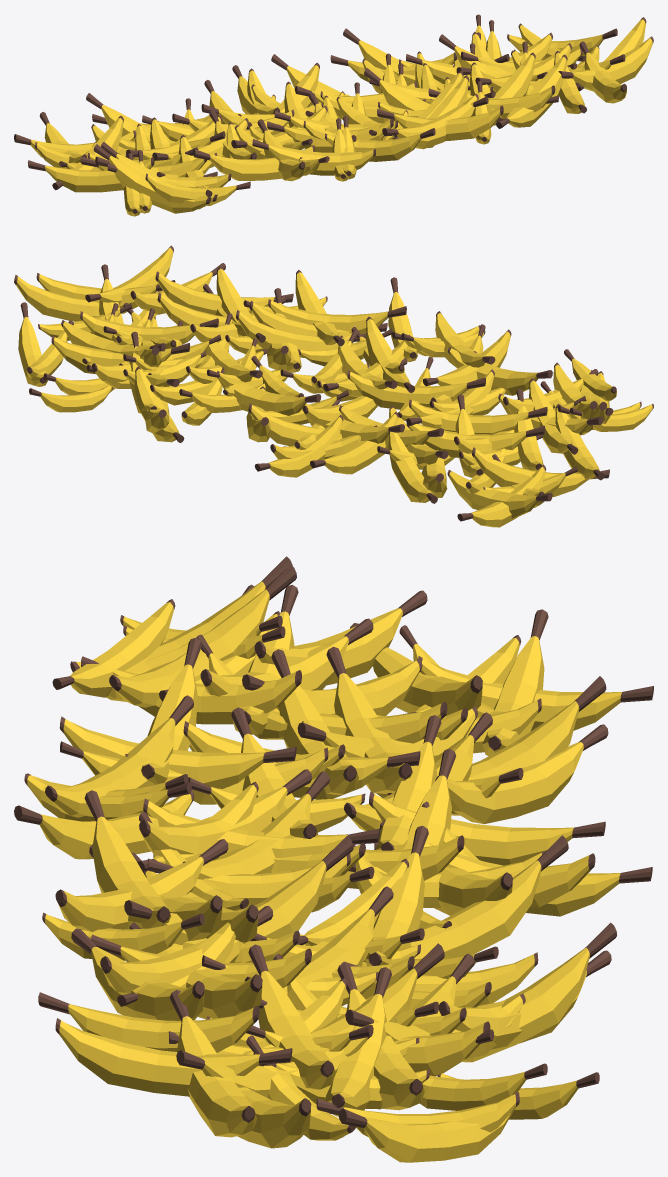
Rendered from banana.fbx.
The picture shows the model from 3 angles, top to bottom: view 1: azimuth 30°, elevation 25°; view 2: azimuth 150°, elevation 25°; view 3: azimuth 270°, elevation 25°; orthographic projection. The views are drawn at different scales.
Visible parts, largest first — view 1: Cube.006_Cube.097; view 2: Cube.006_Cube.097; view 3: Cube.006_Cube.097.
Part boxes in pixels (x1,y1,x2,y2): Cube.006_Cube.097: (14,14,653,216); Cube.006_Cube.097: (14,245,653,527); Cube.006_Cube.097: (14,556,653,1162).
Bounding box in the file's own units: 1270 × 162 × 619.
